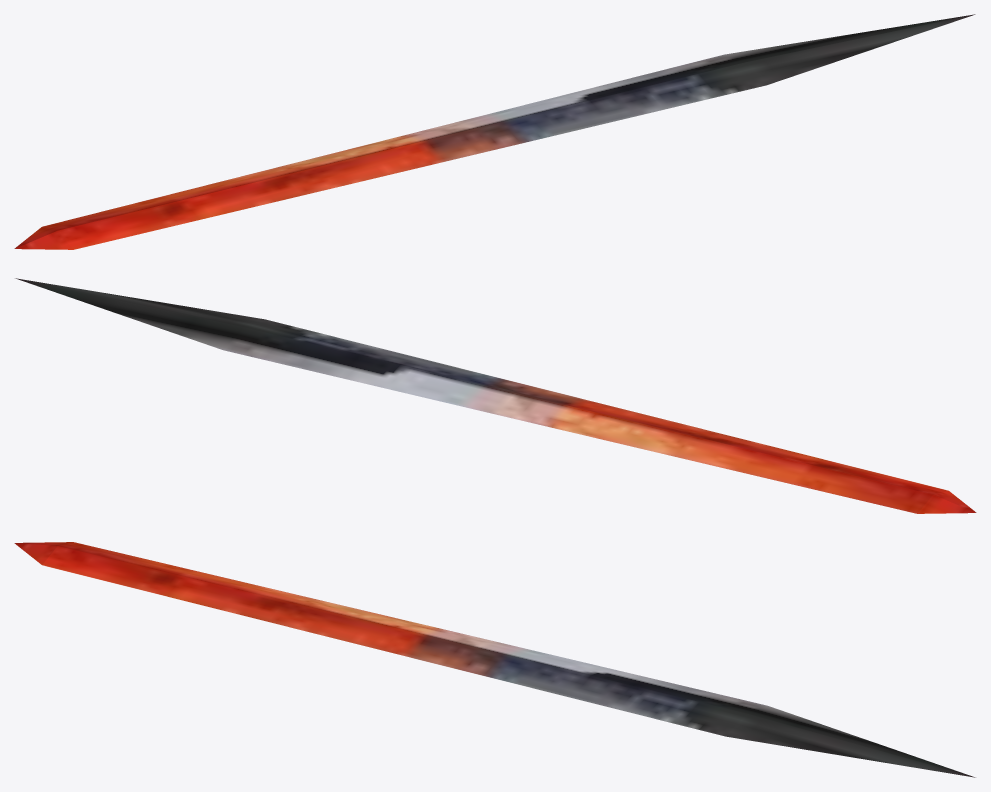
The model's file is NIEUFORMOWANE_ZELAZNE_OSTRZE.glb.
The picture shows the model from 3 angles, top to bottom: view 1: azimuth 30°, elevation 25°; view 2: azimuth 150°, elevation 25°; view 3: azimuth 330°, elevation 25°; orthographic projection.
Parts seen in each view (by area): view 1: NIEUFORMOWANE_ZELAZNE_OSTRZE; view 2: NIEUFORMOWANE_ZELAZNE_OSTRZE; view 3: NIEUFORMOWANE_ZELAZNE_OSTRZE.
Part boxes in pixels (x1=…): NIEUFORMOWANE_ZELAZNE_OSTRZE: x1=14, y1=14, x2=975, y2=249; NIEUFORMOWANE_ZELAZNE_OSTRZE: x1=15, y1=278, x2=976, y2=513; NIEUFORMOWANE_ZELAZNE_OSTRZE: x1=14, y1=542, x2=975, y2=777.
Size of the model in its own units: 1.05 by 0.016 by 0.08.
1 material, 1 textured.
